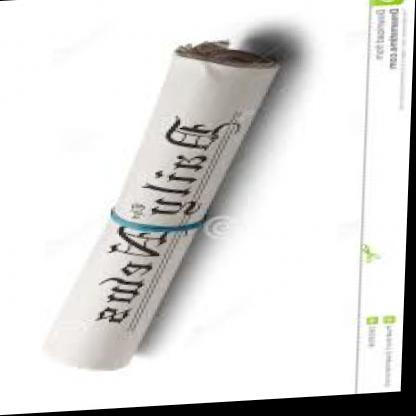Paper: (27, 26, 335, 404)
